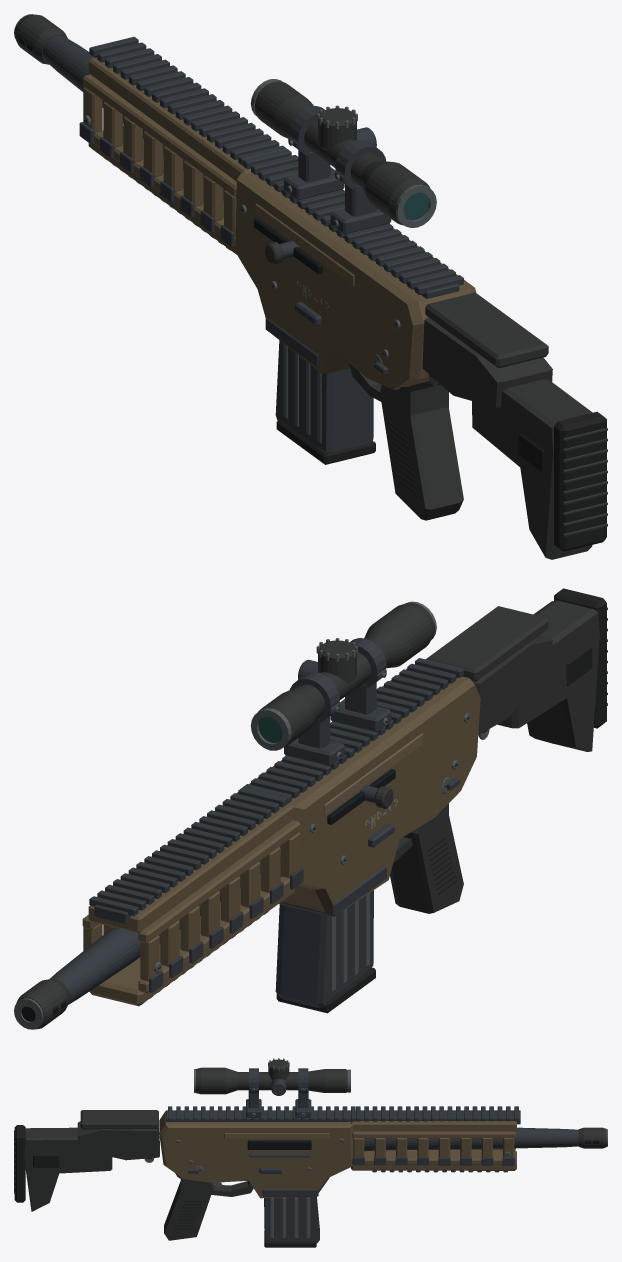
The model's file is dmr12.glb.
3 renders of one model, top to bottom at view 1: azimuth 30°, elevation 25°; view 2: azimuth 150°, elevation 25°; view 3: azimuth 270°, elevation 25°, orthographic. The views are drawn at different scales.
Parts seen in each view (by area): view 1: Receiver, Stock, ForeEnd, Optic, Magazine, Barrel, MuzzleDevice; view 2: Receiver, ForeEnd, Stock, Optic, Magazine, Barrel, MuzzleDevice; view 3: Receiver, ForeEnd, Stock, Optic, Magazine, Barrel, MuzzleDevice.
Part boxes in pixels (x1=…): Receiver: x1=235, y1=149, x2=476, y2=520; Stock: x1=422, y1=292, x2=607, y2=559; ForeEnd: x1=79, y1=37, x2=286, y2=254; Optic: x1=250, y1=79, x2=436, y2=234; Magazine: x1=275, y1=340, x2=375, y2=464; Barrel: x1=42, y1=35, x2=224, y2=200; MuzzleDevice: x1=14, y1=14, x2=67, y2=64; Receiver: x1=236, y1=658, x2=480, y2=916; ForeEnd: x1=82, y1=787, x2=303, y2=1006; Stock: x1=426, y1=588, x2=607, y2=751; Optic: x1=250, y1=601, x2=436, y2=766; Magazine: x1=275, y1=890, x2=375, y2=1013; Barrel: x1=49, y1=846, x2=280, y2=1004; MuzzleDevice: x1=14, y1=979, x2=70, y2=1029; Receiver: x1=159, y1=1106, x2=355, y2=1240; ForeEnd: x1=351, y1=1106, x2=520, y2=1172; Stock: x1=14, y1=1110, x2=159, y2=1211; Optic: x1=194, y1=1058, x2=350, y2=1117; Magazine: x1=264, y1=1196, x2=319, y2=1247; Barrel: x1=364, y1=1127, x2=578, y2=1151; MuzzleDevice: x1=578, y1=1127, x2=607, y2=1148.
Size of the model in its own units: 0.151 by 0.4739 by 1.43.
